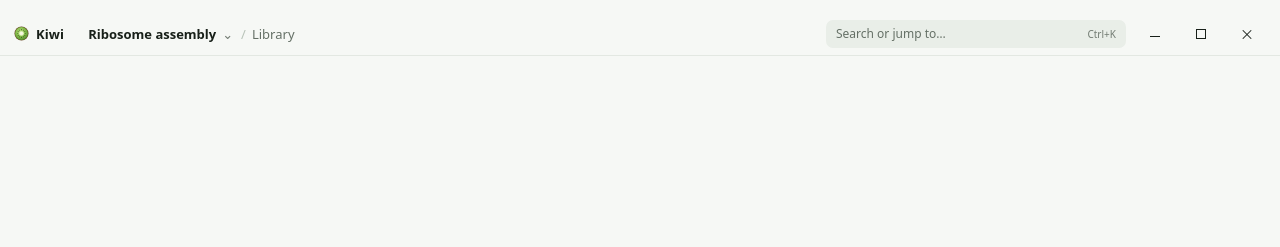
Test: the breadcrumb › names the project and the page, and puts the workspace in the menu
Check: the navigation bar named "Where you are" shows "Library", box [252,24,295,42]
Check: the navigation bar "Where you are" does not show "Trial"
Click the button with aria-label "Project Ribosome assembly" at x=161, y=34, box [80,20,241,48]
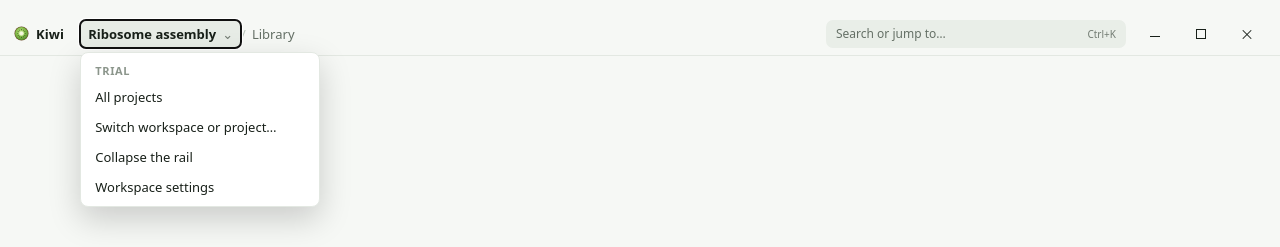
Check: the text "Trial" is shown, box [95,62,130,78]
